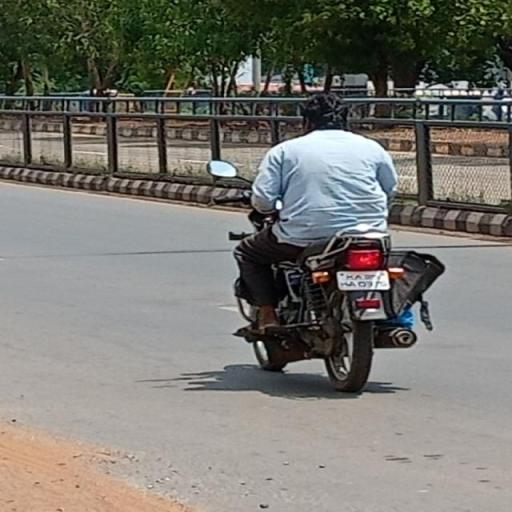bike: (203, 89, 447, 394)
withouthelmet: (305, 94, 348, 128)
